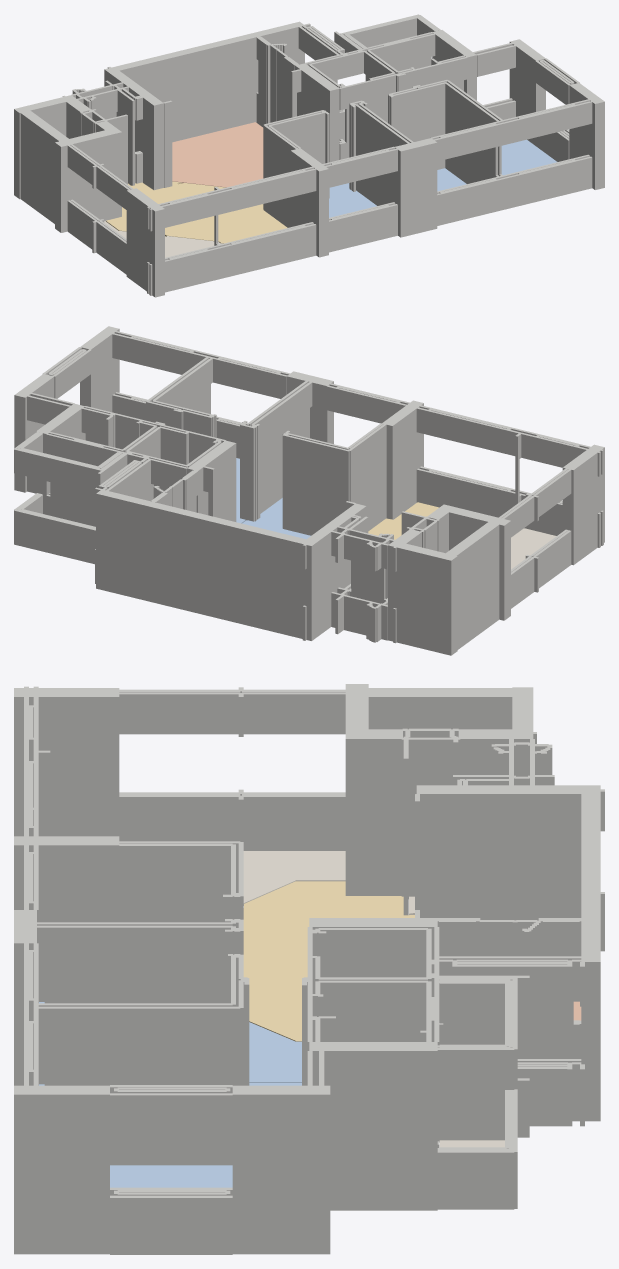
3 views of the same model, one above another, from view 1: azimuth 30°, elevation 25°; view 2: azimuth 150°, elevation 25°; view 3: azimuth 270°, elevation 25° (orthographic). The views are drawn at different scales.
Visible parts, largest first — view 1: walls, room:kitchen:0, room:living:6, room:bedroom:9, room:bedroom:3, room:other:2, room:bedroom:8; view 2: walls, room:other:2, room:bedroom:3, room:living:6; view 3: walls, room:living:6, room:other:2, room:bedroom:9, room:bedroom:3.
Boxes of the visible parts, x1,y1,x2,y2 form: walls: [14, 14, 604, 297]; room:kitchen:0: [172, 122, 263, 187]; room:living:6: [106, 181, 287, 243]; room:bedroom:9: [501, 139, 556, 175]; room:bedroom:3: [329, 183, 376, 217]; room:other:2: [104, 221, 222, 257]; room:bedroom:8: [437, 168, 466, 191]; walls: [14, 326, 604, 655]; room:other:2: [511, 528, 556, 569]; room:bedroom:3: [242, 498, 310, 539]; room:living:6: [368, 502, 439, 539]; walls: [14, 684, 604, 1254]; room:living:6: [243, 881, 414, 1041]; room:other:2: [243, 851, 345, 905]; room:bedroom:9: [110, 1165, 232, 1187]; room:bedroom:3: [39, 1002, 301, 1082].
Bounding box in the file's own units: 15.48 × 2.8 × 9.4.
